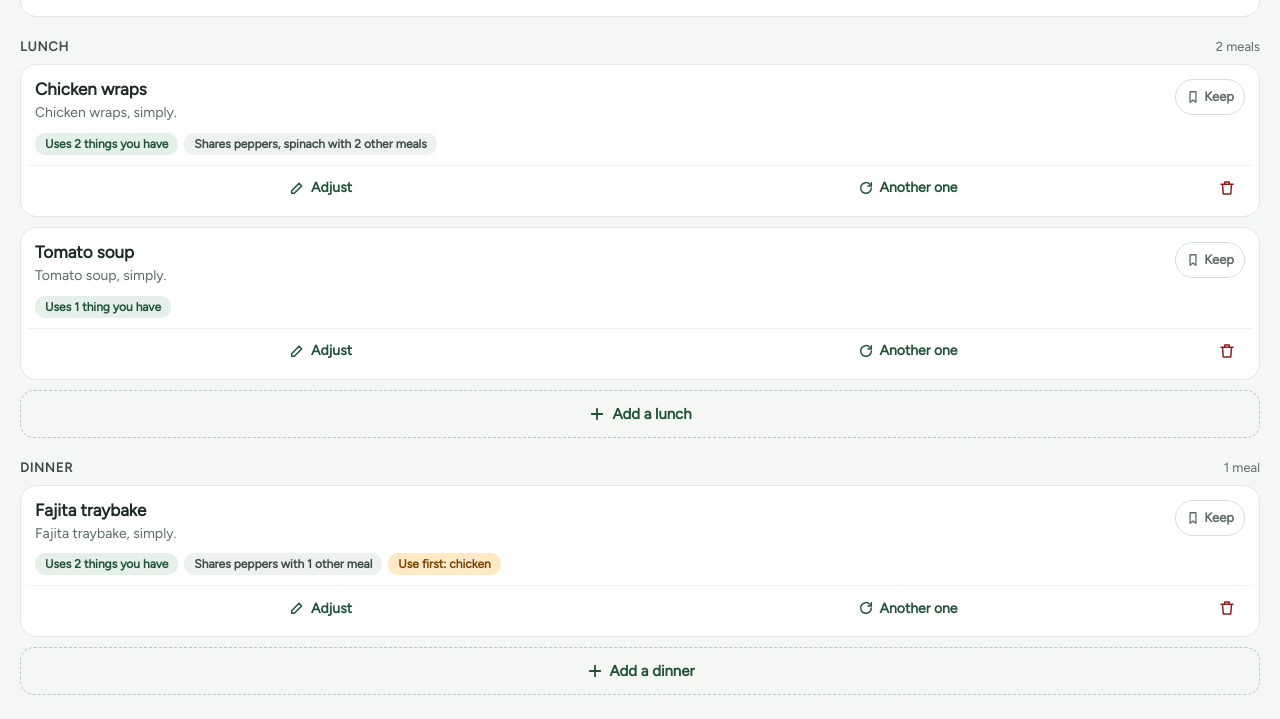
it: Plan meals: the plan › Add a dinner adds one under Dinner
The image size is (1280, 719).
(page scrolled)
Click the button "Add a dinner" at (640, 671), box [20, 647, 1260, 695]
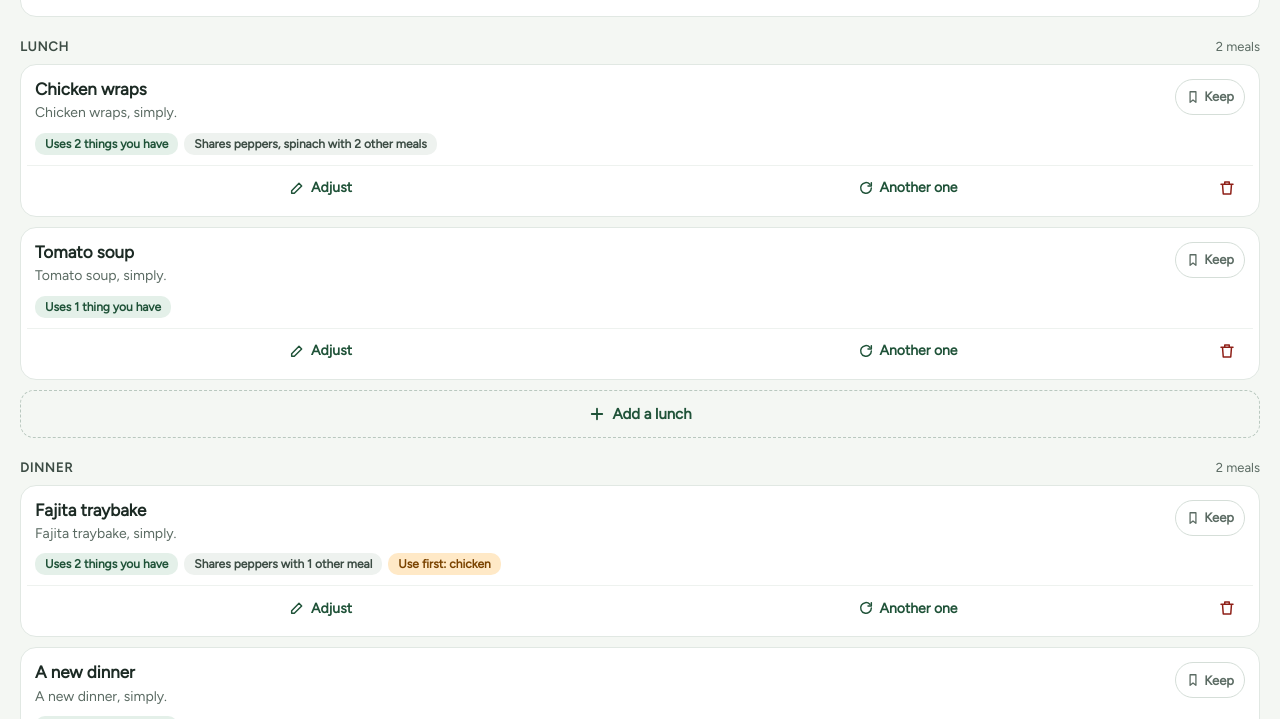
Now the heading "Dinner 2 meals" is shown, box [20, 460, 1260, 475]
